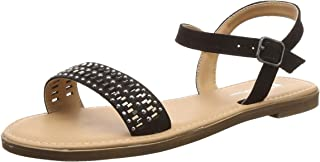shoes: (1, 1, 319, 160)
